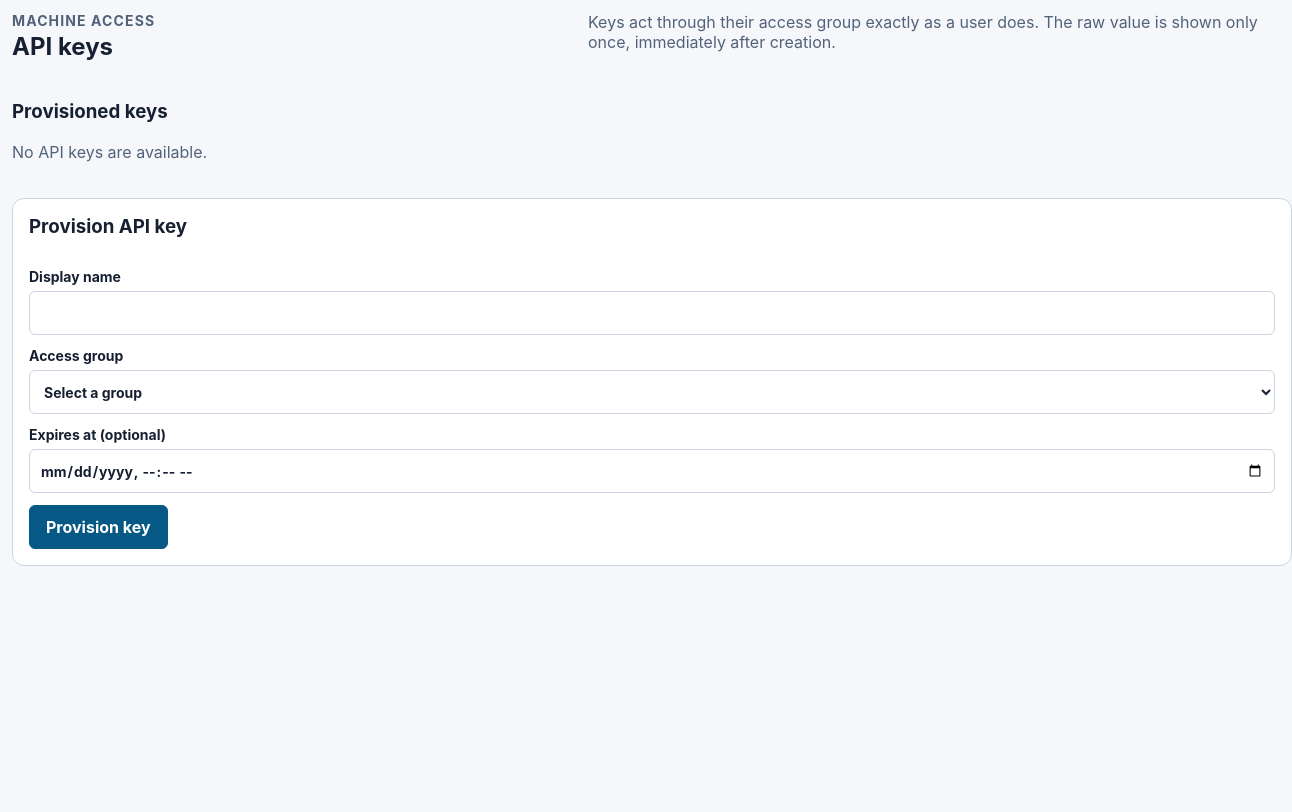
provisions a key through the selected access group and shows the raw value once
This screenshot has width=1292, height=812.
In the field labelled "Display name": {"x": 652, "y": 313} left=29, top=291, right=1275, bottom=335, type "New key"
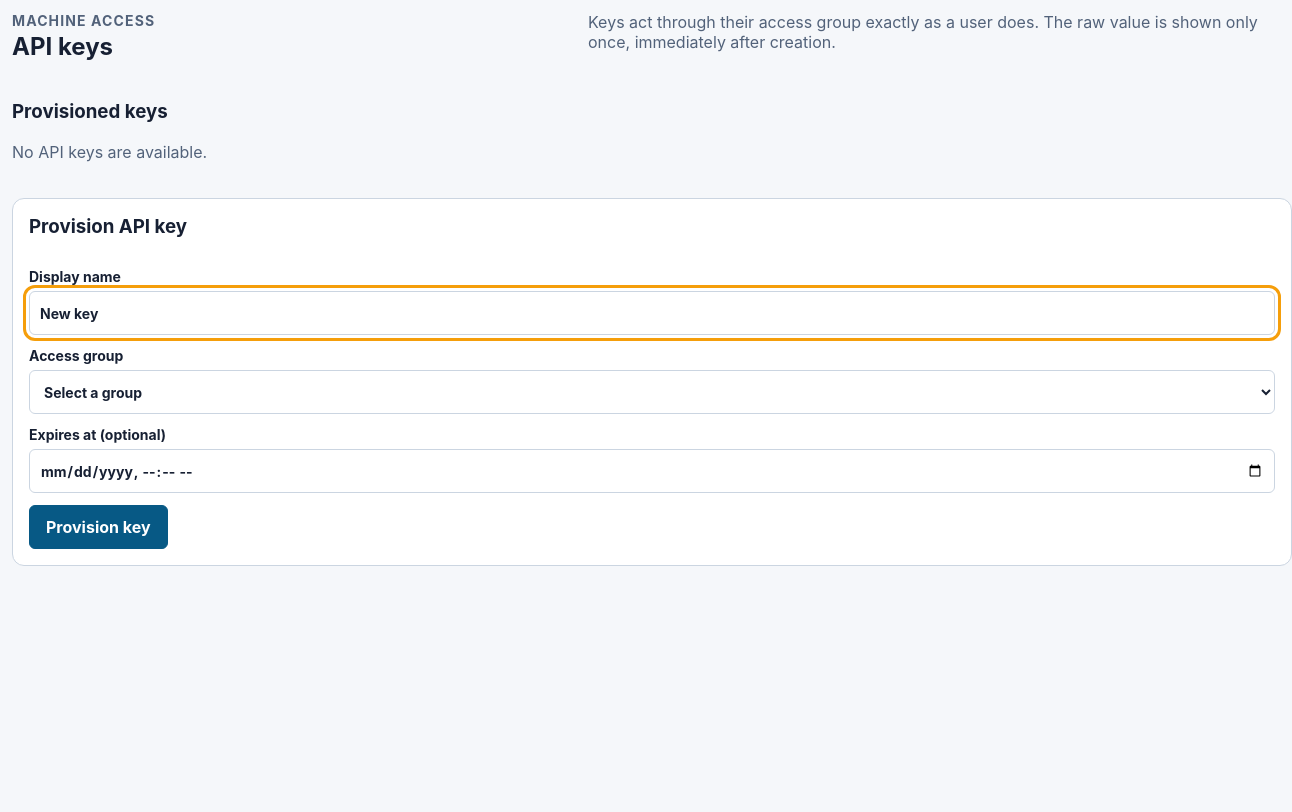
Select "Analytics workers (ANALYTICS)" in the dropdown labelled "Access group": {"x": 652, "y": 392} left=29, top=370, right=1275, bottom=414
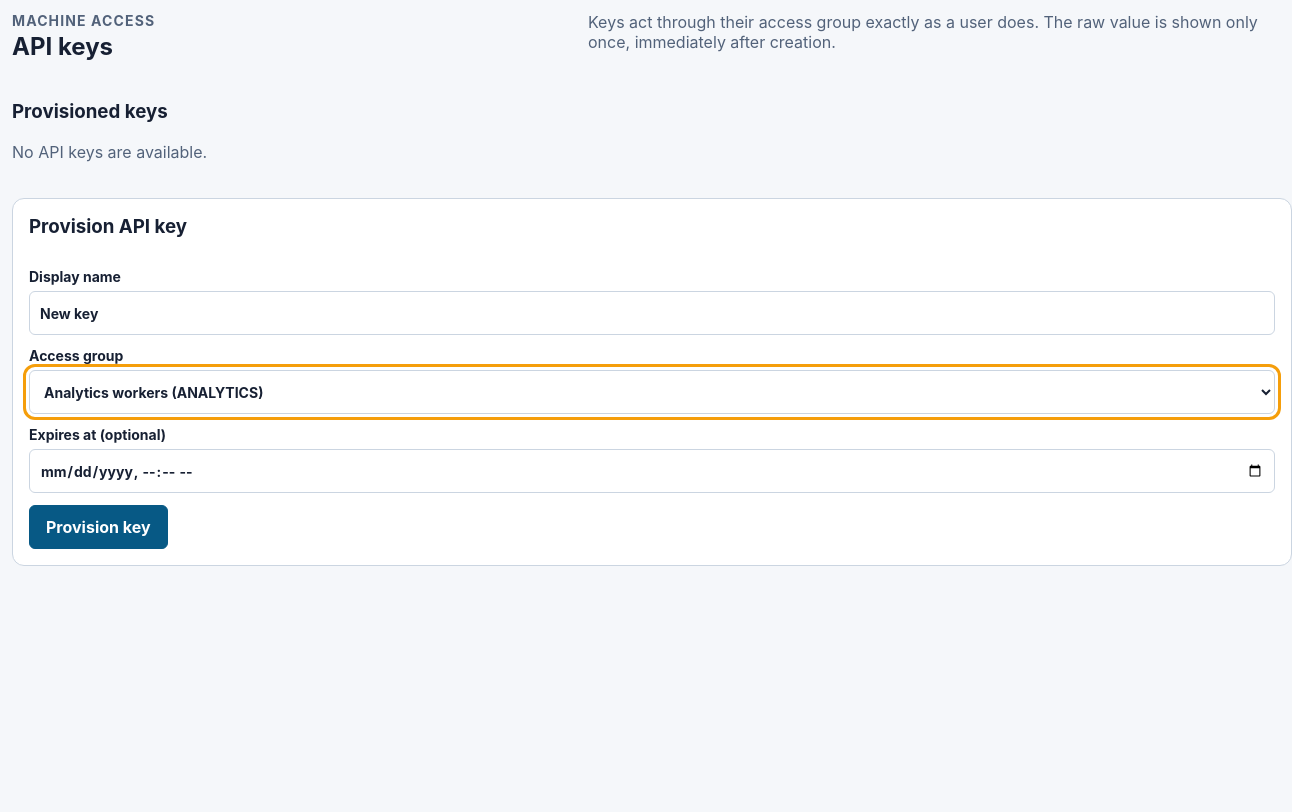
Click the button "Provision key": {"x": 98, "y": 527} left=29, top=505, right=168, bottom=549
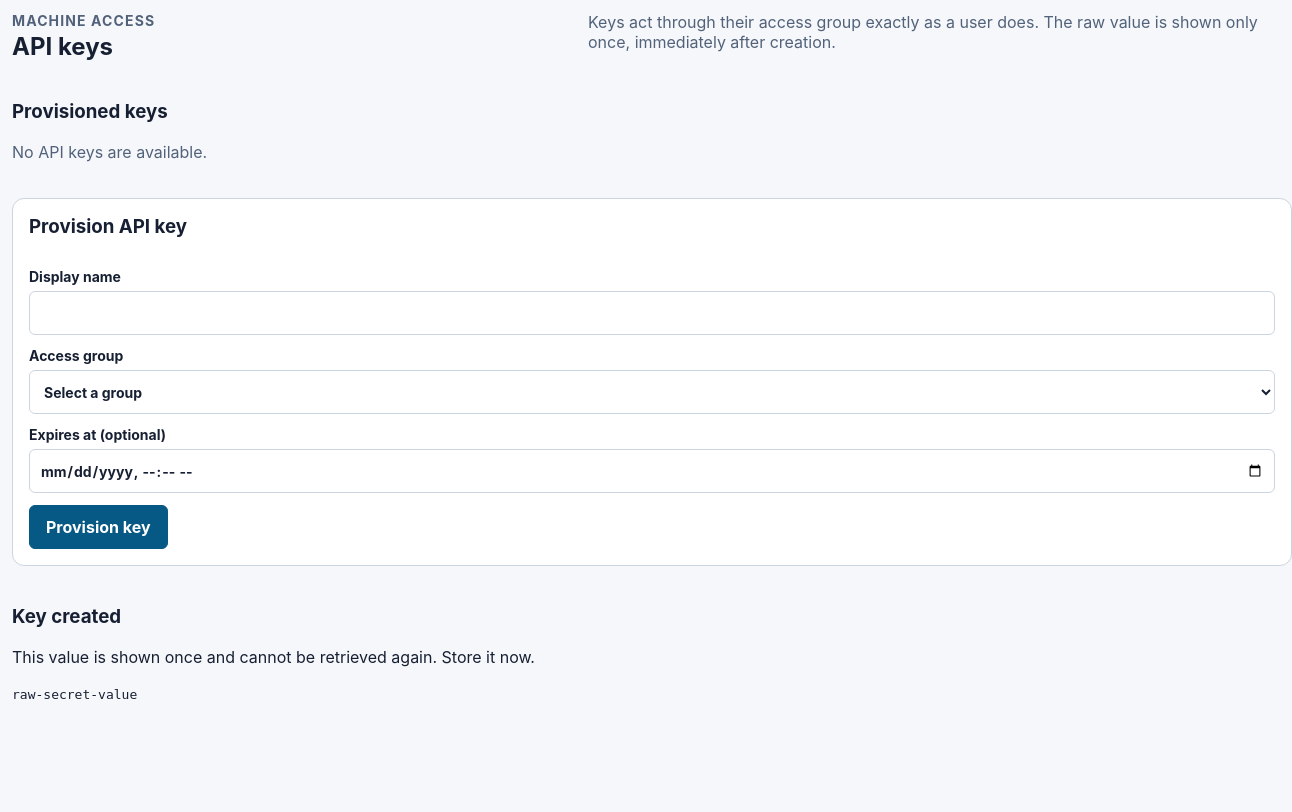
Expected: the text "raw-secret-value" is shown, left=12, top=687, right=137, bottom=702
